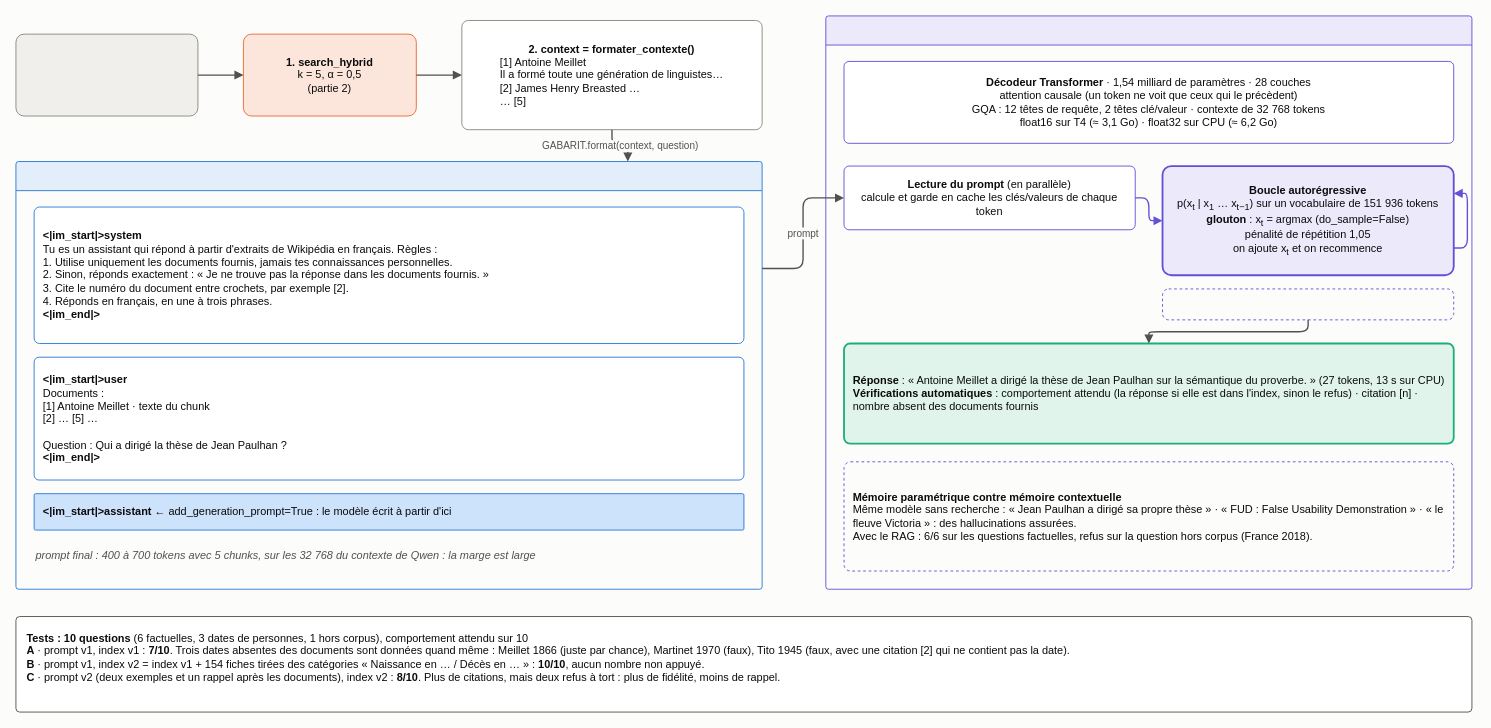
This 1491x728 diagram has some shape labels left out. Each missing label, with the box of its shape:
3. PROMPT : apply_chat_template (jetons spéciaux de Qwen): (15, 161, 762, 589)
4. GÉNÉRATION : Qwen2.5-1.5B-Instruct: (825, 15, 1472, 589)
arrêt : <|im_end|> ou 200 nouveaux tokens: (1162, 288, 1454, 320)
question « Qui a dirigé la thèse de Jean Paulhan ? »: (15, 33, 198, 116)
